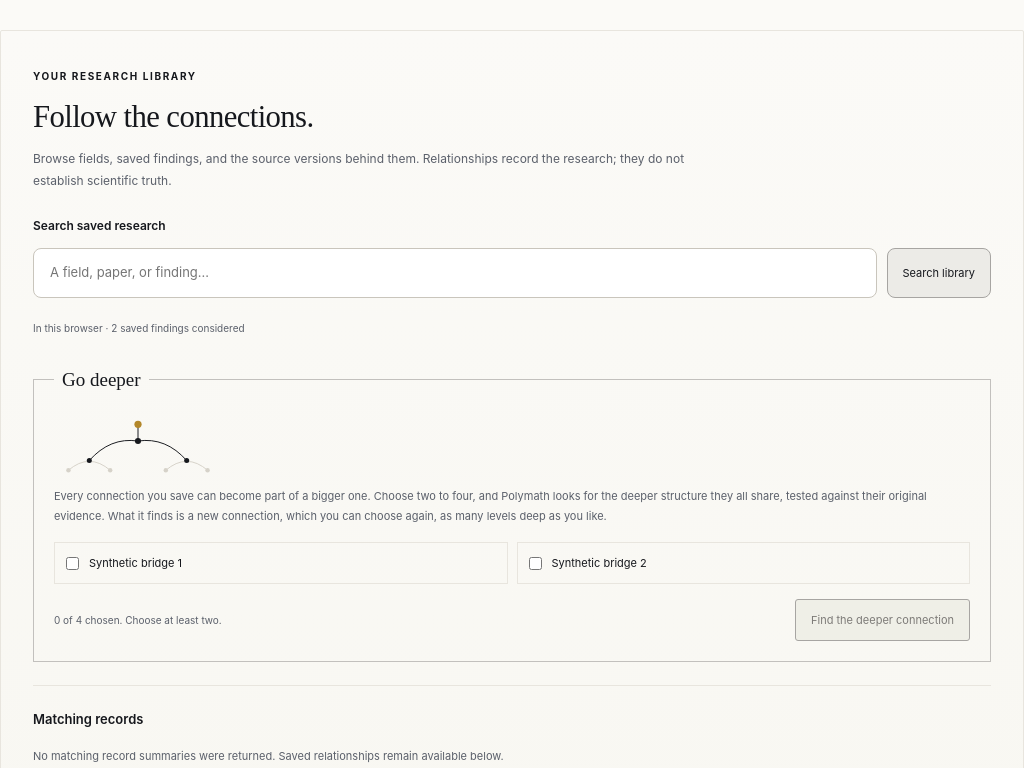
it: investigating connections between saved bridges › requires two to four saved bridges and passes exact selected versions once
Expected: the button "Find the deeper connection" is disabled, x1=795 y1=599 x2=970 y2=641
Step 1. Click the checkbox named "Use connection: Synthetic bridge 1" → (72, 563), box x1=66 y1=556 x2=79 y2=570
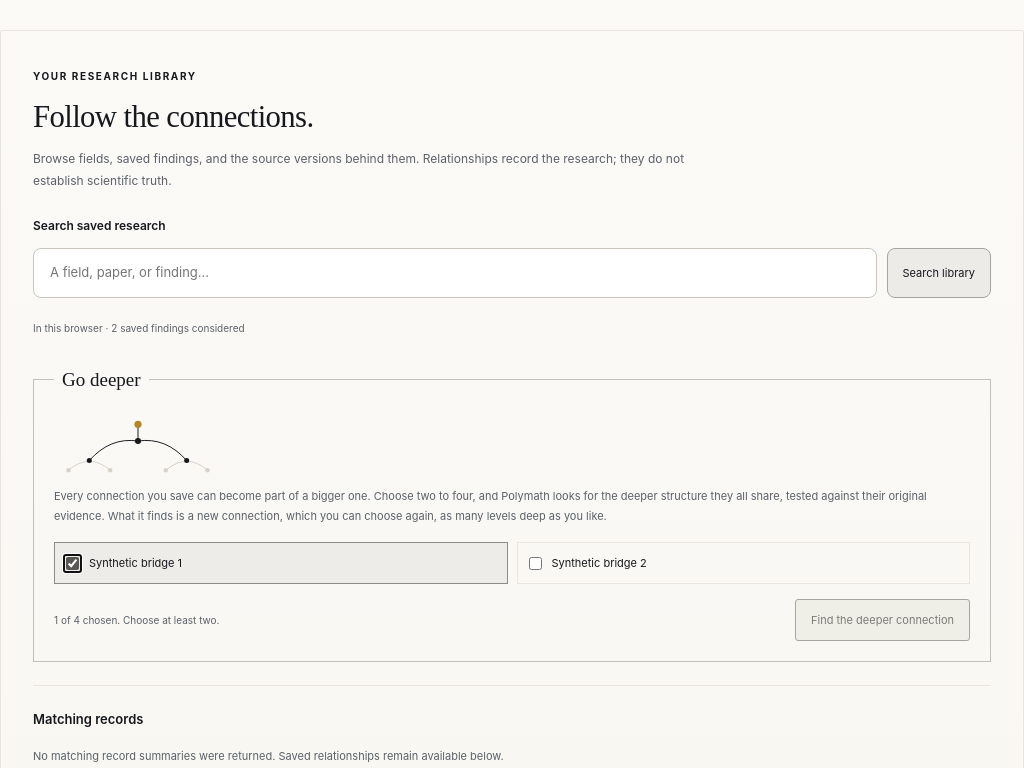
Expected: the button "Find the deeper connection" is disabled, x1=795 y1=599 x2=970 y2=641
Step 2. Click the checkbox named "Use connection: Synthetic bridge 2" → (535, 563), box x1=528 y1=556 x2=542 y2=570
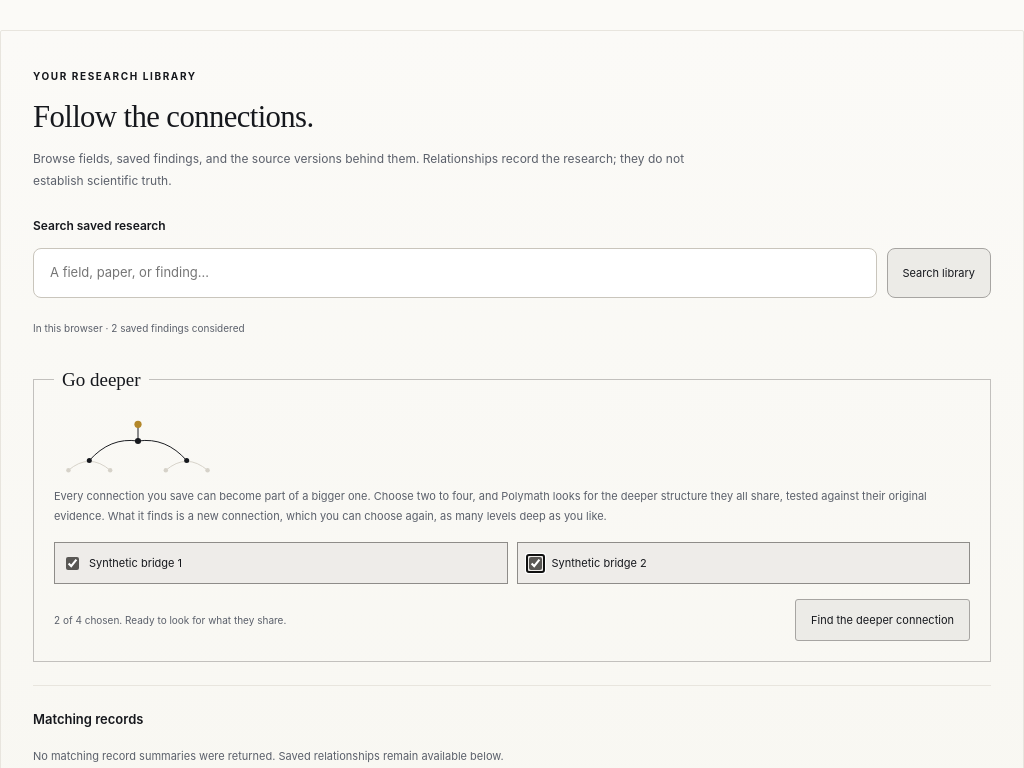
Expected: the button "Find the deeper connection" is enabled
Step 3. Click the button "Find the deeper connection" → (882, 620), box x1=795 y1=599 x2=970 y2=641
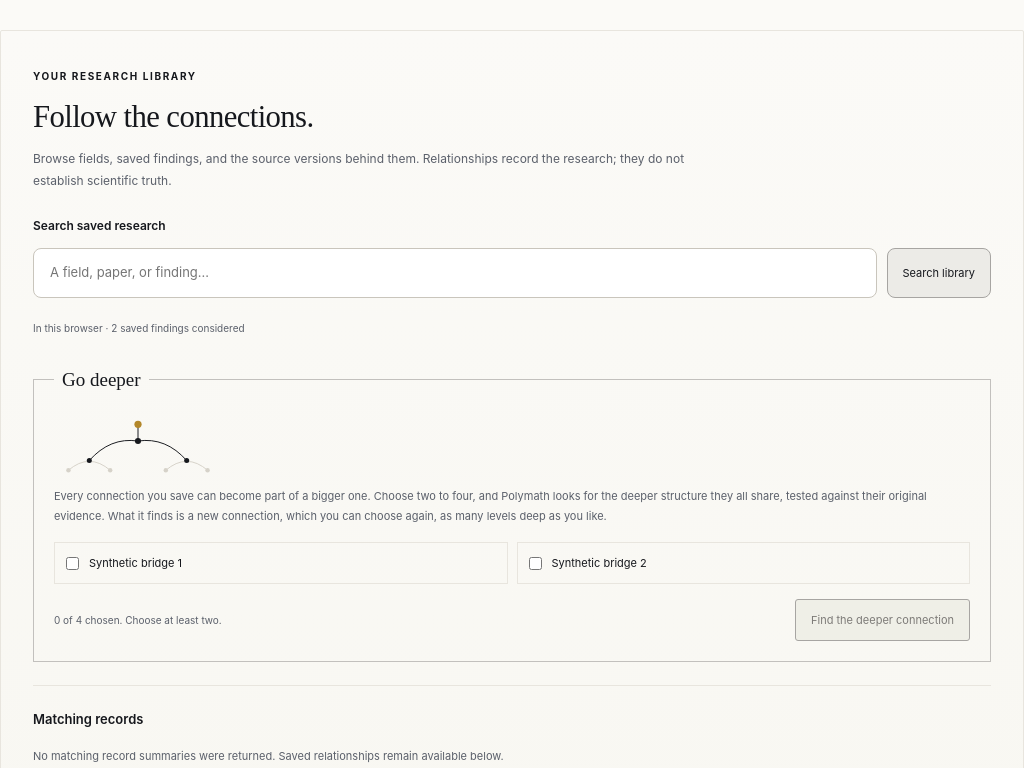
Expected: the checkbox named "Use connection: Synthetic bridge 1" is not checked, x1=66 y1=556 x2=79 y2=570
Expected: the button "Find the deeper connection" is disabled, x1=795 y1=599 x2=970 y2=641
